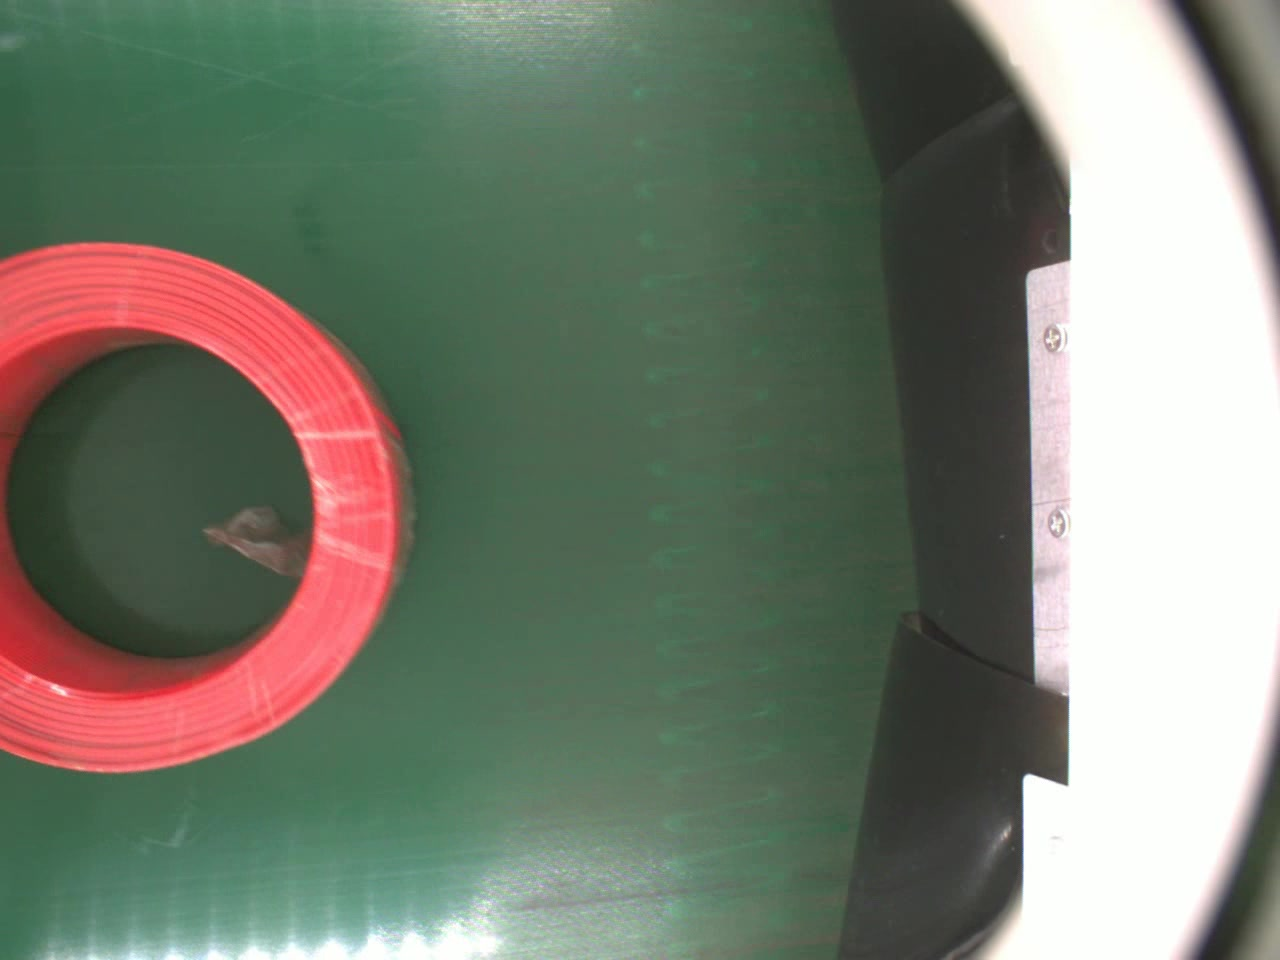red: (0, 239, 417, 778)
